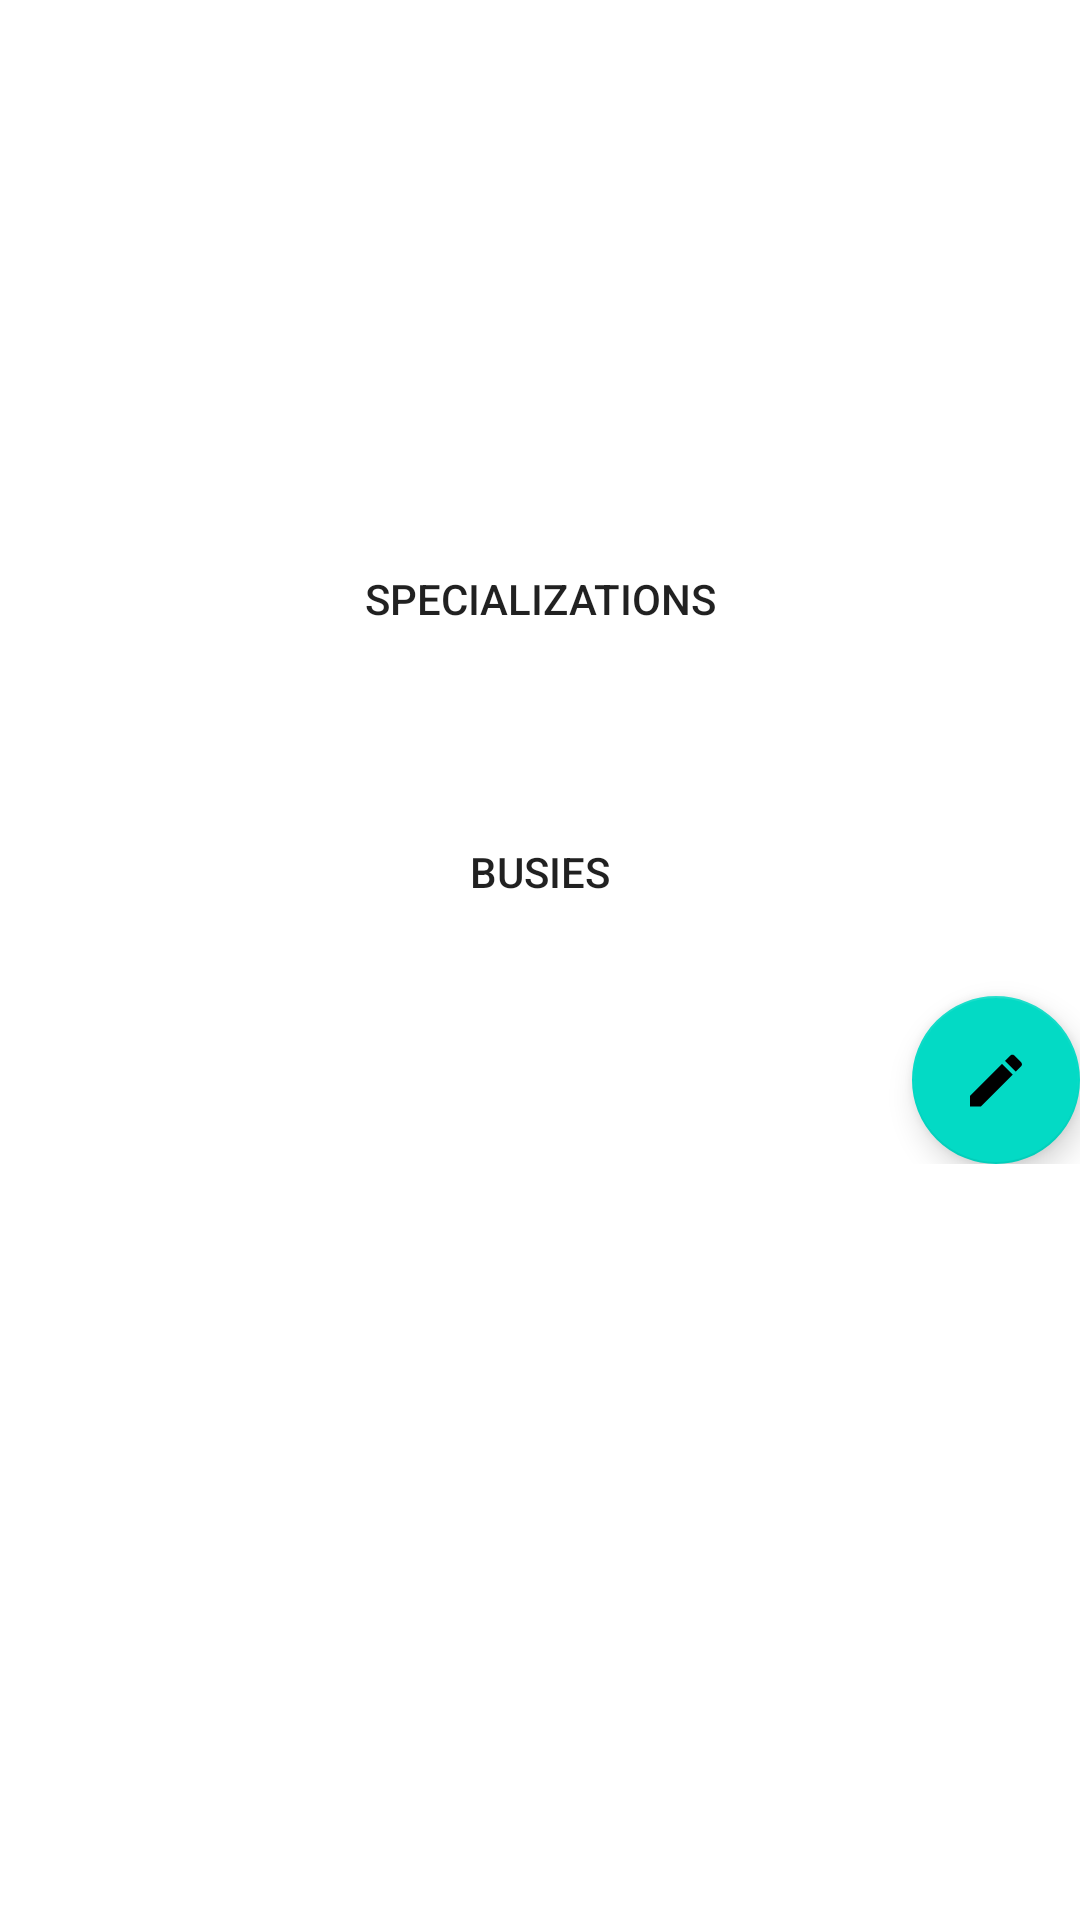

Where icons sit on this 1080*1920 app screen, as (x1, y1, x2, y2):
edit: (912, 996, 1080, 1164)
